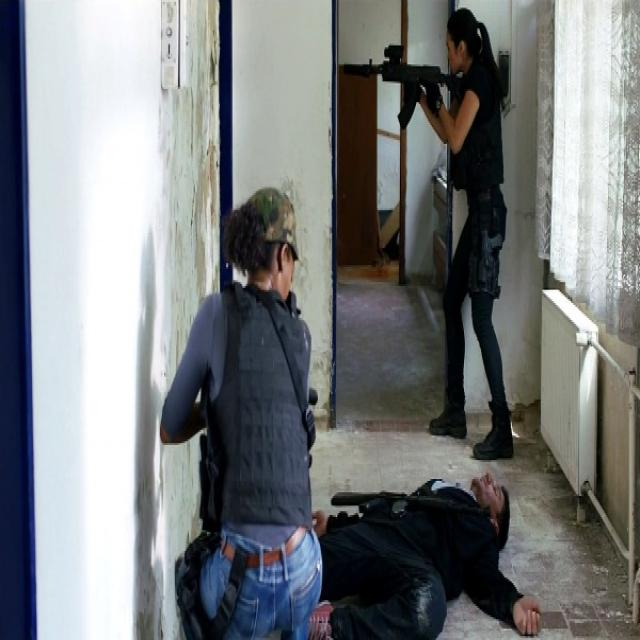rifle: (344, 47, 469, 130)
